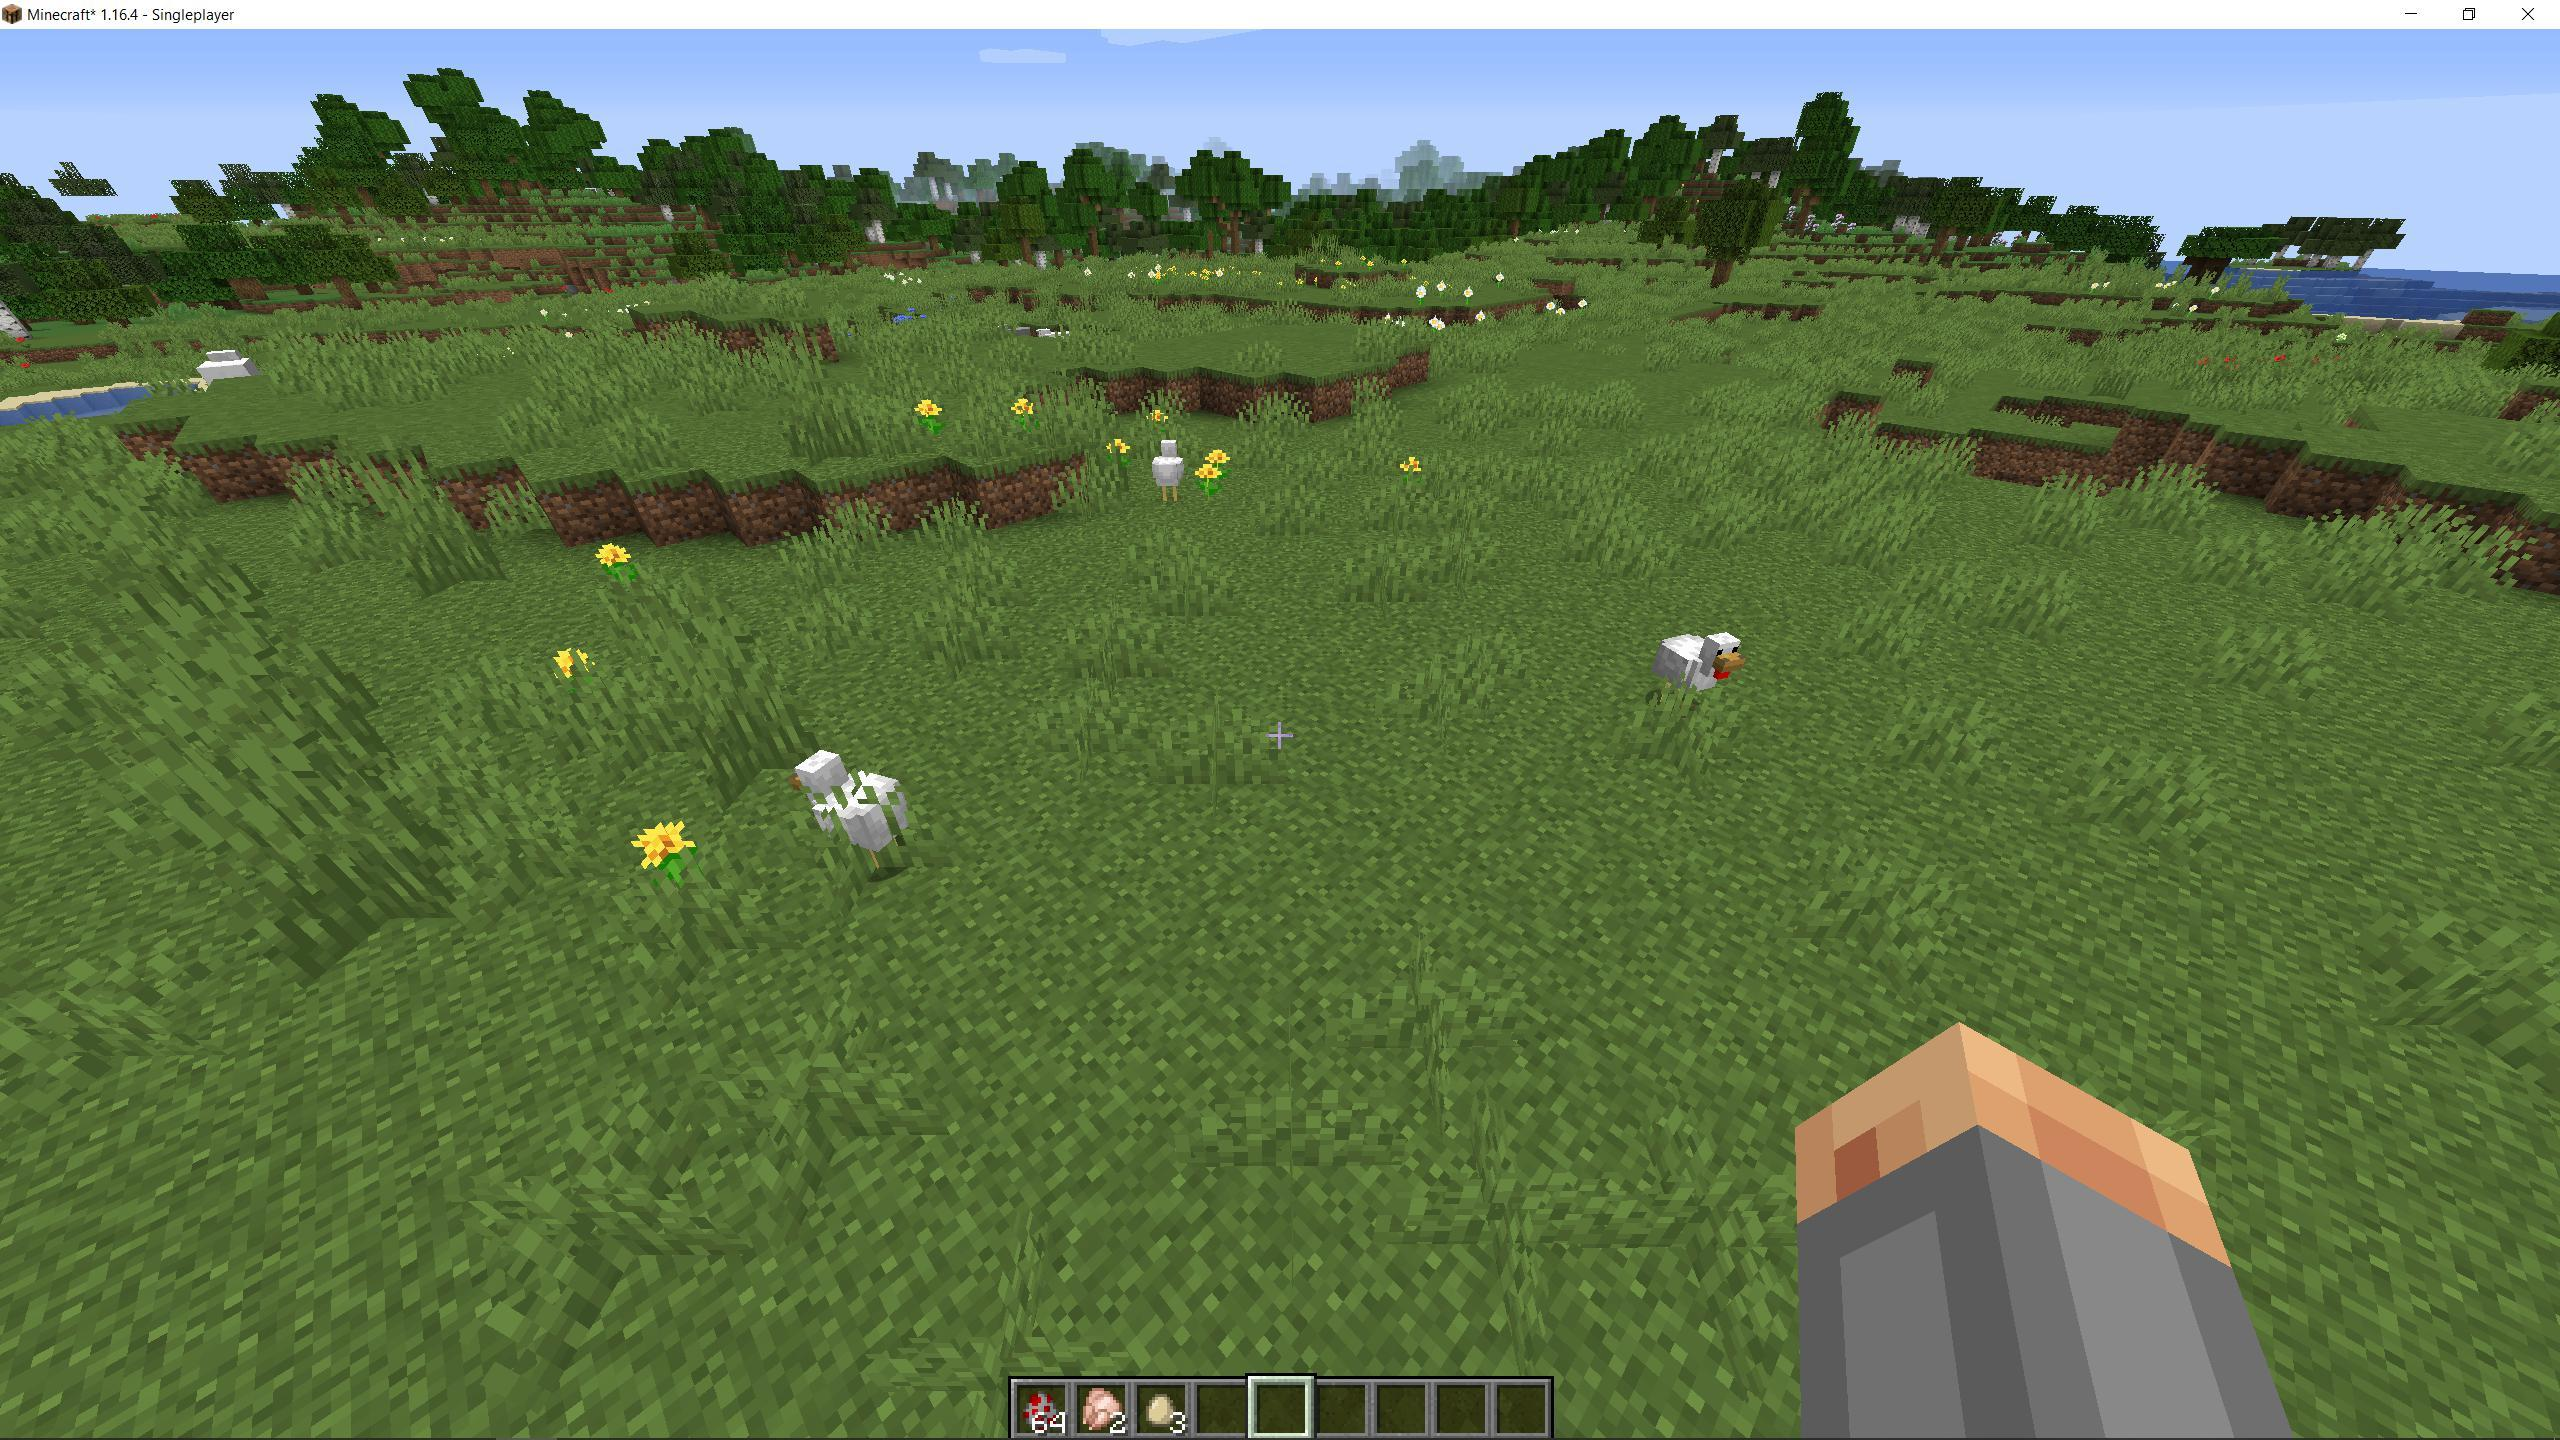chicken: (782, 728, 927, 888), (1649, 626, 1748, 738), (1136, 438, 1203, 515)
